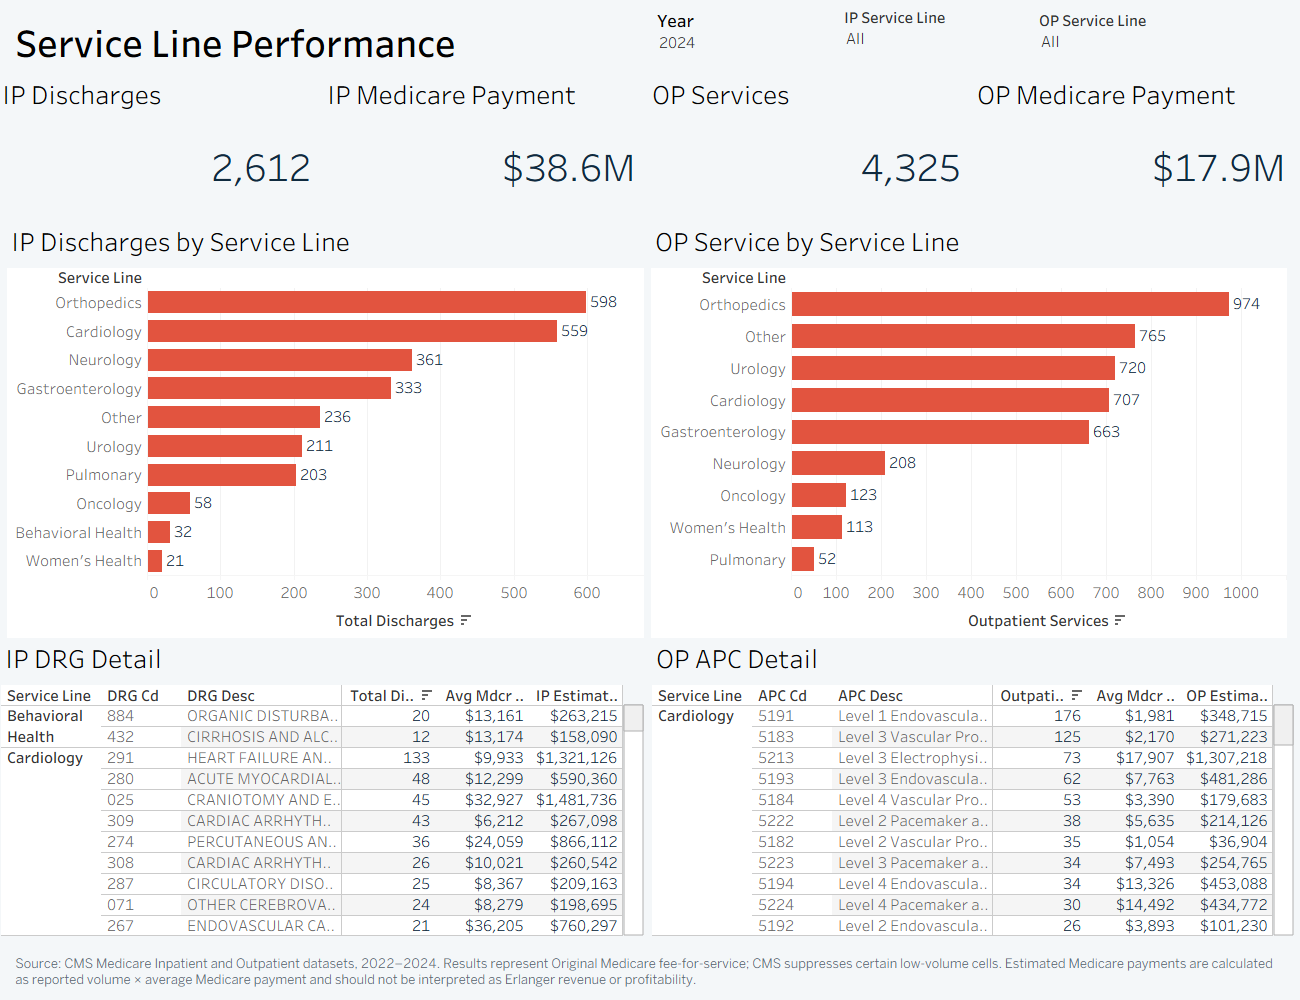

Layout of this report page (visuals, bound fields, positions):
{"tool":"tableau","page":{"name":"Service Line Performance","canvas":[1300,1000],"ordinal":4},"visuals":[{"type":"filter","title":"IP Discharges","param":"[federated.1pkp6fx156fr7w15bbkhj0qb7unp].[none:service_line:nk]","box":[843.9,5.9,173.3,85.7]},{"type":"parameter","param":"[Parameters].[Parameter 2286192683601920]","box":[656.5,7,173.3,82.2]},{"type":"text","box":[8,8,1284,68.9]},{"type":"filter","title":"OP Medicare Payment","param":"[federated.019ibcv0hsqcq617txvay0uyaciy].[none:Calculation_2286192691400711:nk]","box":[1038.9,9.4,173.3,82.2]},{"type":"worksheet","title":"IP Medicare Payment","mark":"Automatic","box":[319,67,325,149]},{"type":"worksheet","title":"OP Services","mark":"Automatic","box":[644,67,325,149]},{"type":"worksheet","title":"OP Medicare Payment","mark":"Automatic","box":[969,67,325,149]},{"type":"worksheet","title":"IP Discharges by Service Line","mark":"Bar","rows":["service_line"],"cols":["Tot_Dschrgs"],"box":[3,214,644,428]},{"type":"worksheet","title":"OP Service by Service Line","mark":"Bar","rows":["Calculation_2286192691400711"],"cols":["CAPC_Srvcs"],"box":[647,214,643,428]},{"type":"worksheet","title":"OP APC Detail","mark":"Automatic","rows":["Calculation_2286192691400711","APC_Cd","APC_Desc"],"box":[648,631,650,309]},{"type":"text","box":[8,952,1284,40]}]}

Visuals, with their boxes in screenshot pixels (x1, y1, x2, y2), scaled from the page's 1300x1000 canvas onto the 1300x1000 screenshot:
"IP Discharges" filter: [x1=844, y1=6, x2=1017, y2=92]
parameter: [x1=656, y1=7, x2=830, y2=89]
text: [x1=8, y1=8, x2=1292, y2=77]
"OP Medicare Payment" filter: [x1=1039, y1=9, x2=1212, y2=92]
"IP Medicare Payment" worksheet: [x1=319, y1=67, x2=644, y2=216]
"OP Services" worksheet: [x1=644, y1=67, x2=969, y2=216]
"OP Medicare Payment" worksheet: [x1=969, y1=67, x2=1294, y2=216]
"IP Discharges by Service Line" worksheet (Bar marks): [x1=3, y1=214, x2=647, y2=642]
"OP Service by Service Line" worksheet (Bar marks): [x1=647, y1=214, x2=1290, y2=642]
"OP APC Detail" worksheet: [x1=648, y1=631, x2=1298, y2=940]
text: [x1=8, y1=952, x2=1292, y2=992]
